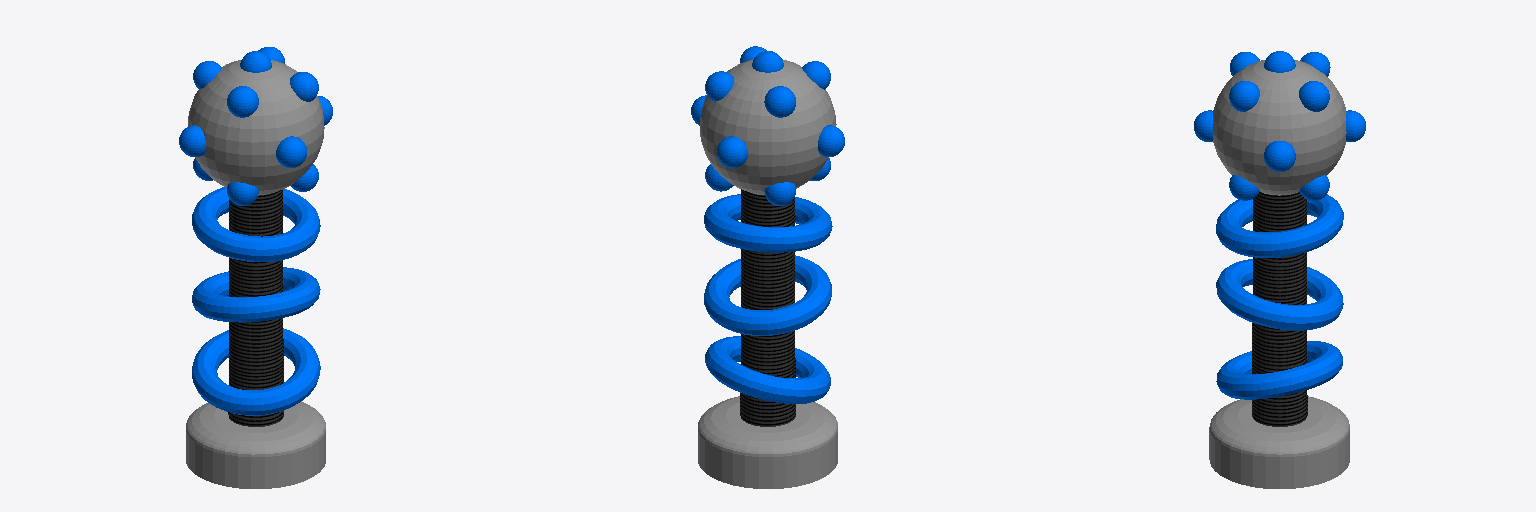
The picture shows the model from 3 angles: view 1: azimuth 30°, elevation 25°; view 2: azimuth 150°, elevation 25°; view 3: azimuth 270°, elevation 25°; orthographic projection.
Parts seen in each view (by area): view 1: Cylinder; view 2: Cylinder; view 3: Cylinder.
Part boxes in pixels (x1,y1,x2,y2): Cylinder: (179,47,332,488); Cylinder: (691,46,844,488); Cylinder: (1194,51,1365,488).
Bounding box in the file's own units: 3.48 × 9.03 × 3.47.
1 materials, 1 textured.